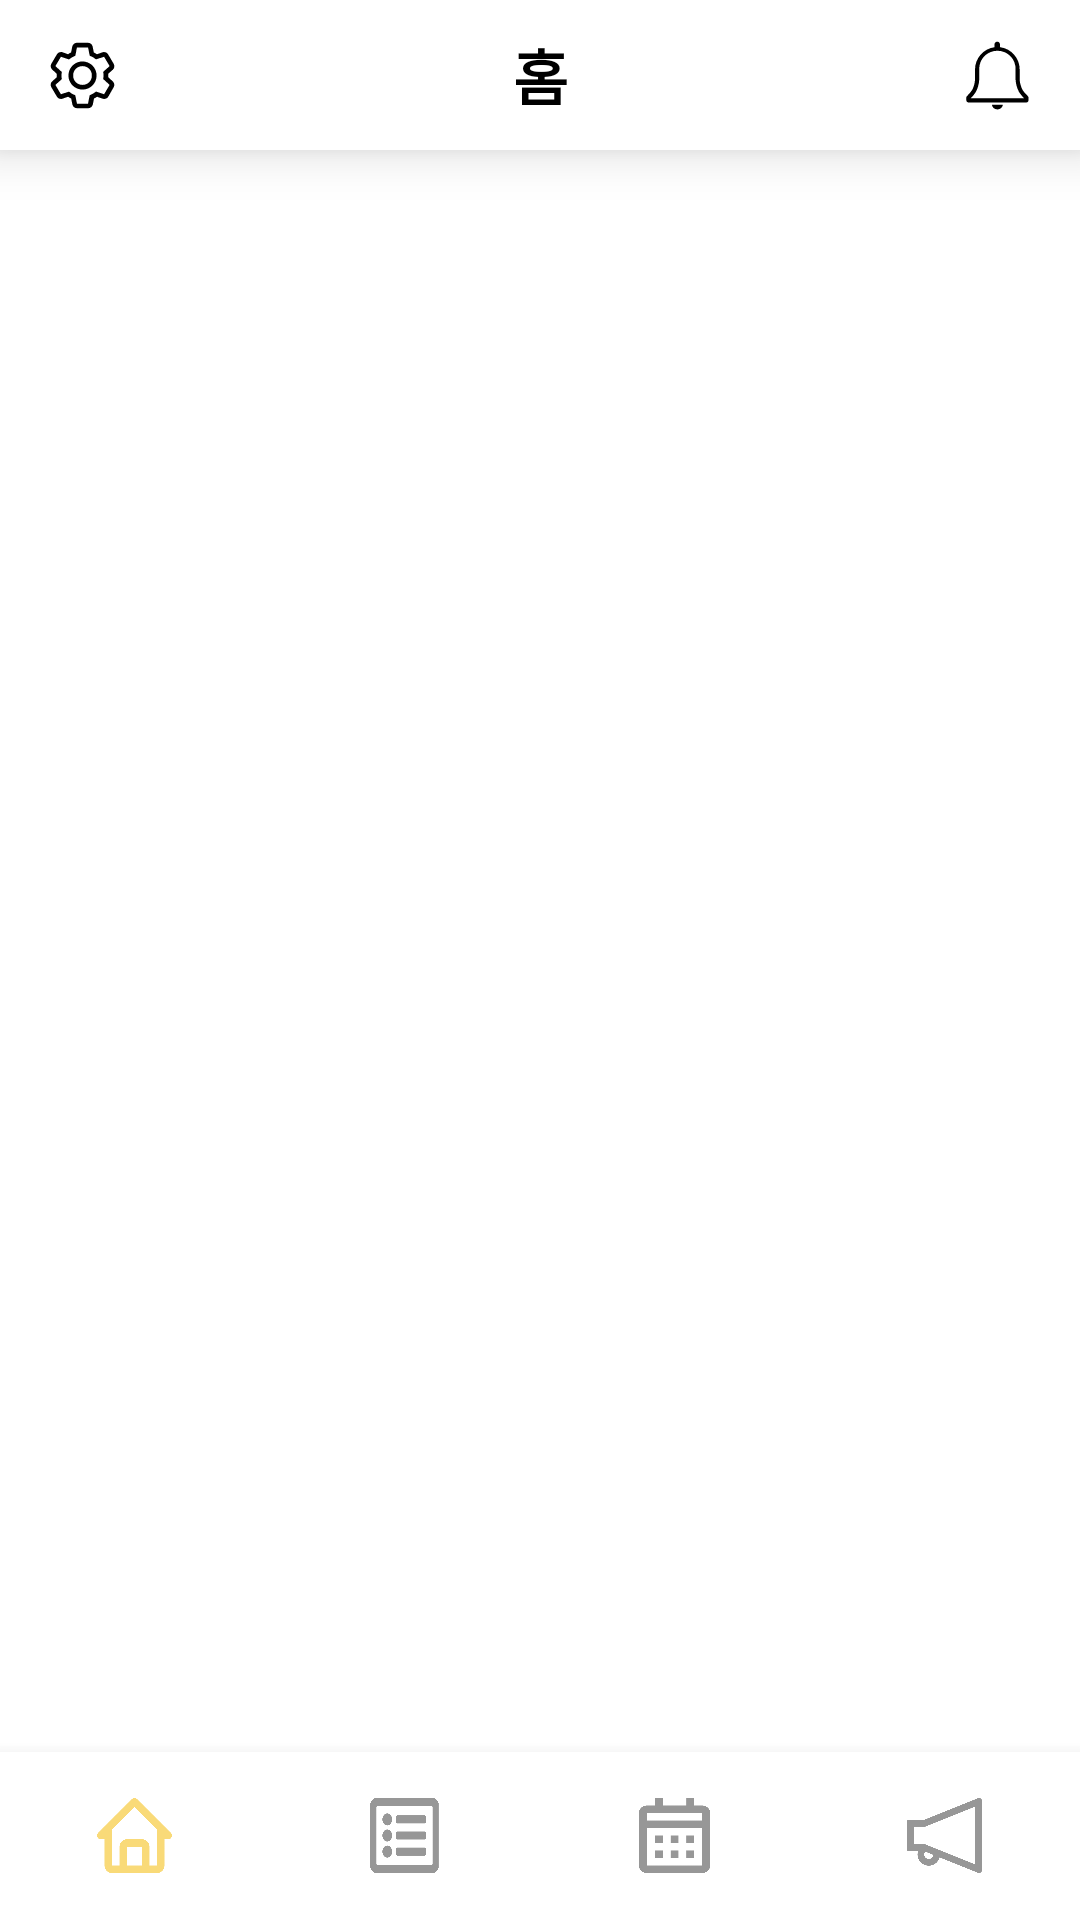

Icons on this 1080px×1920px Android screen, each with the point to tap as (x,y):
notification: (997,75)
setting: (82,75)
